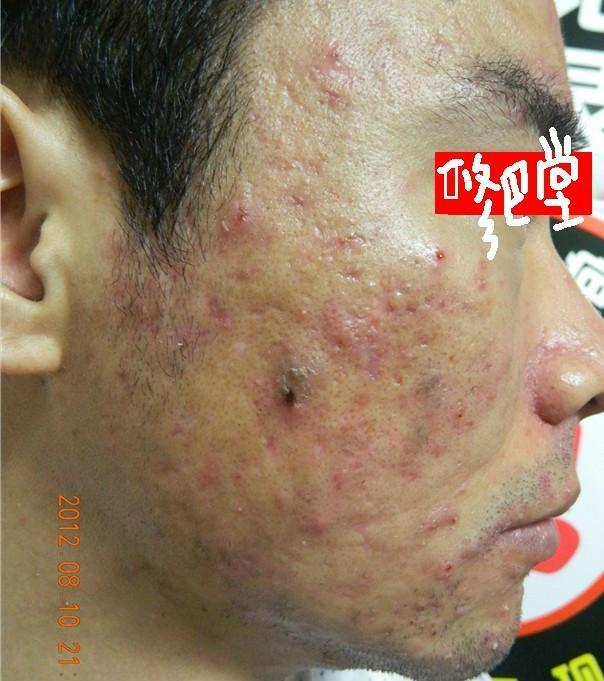fore: (134, 319, 196, 381), (260, 354, 305, 426), (399, 426, 453, 475), (196, 274, 238, 333), (219, 203, 263, 256), (246, 434, 297, 476), (356, 322, 392, 381), (417, 556, 465, 593), (323, 458, 358, 506), (190, 454, 232, 494), (314, 416, 371, 445), (462, 239, 495, 288), (315, 307, 358, 343), (426, 230, 456, 278), (318, 38, 350, 81), (406, 366, 442, 404), (476, 627, 509, 668), (388, 300, 426, 334), (302, 503, 341, 534), (349, 559, 374, 599), (457, 381, 479, 425), (414, 404, 439, 437), (433, 499, 456, 534), (491, 594, 512, 618), (312, 525, 326, 550), (297, 516, 306, 528)
